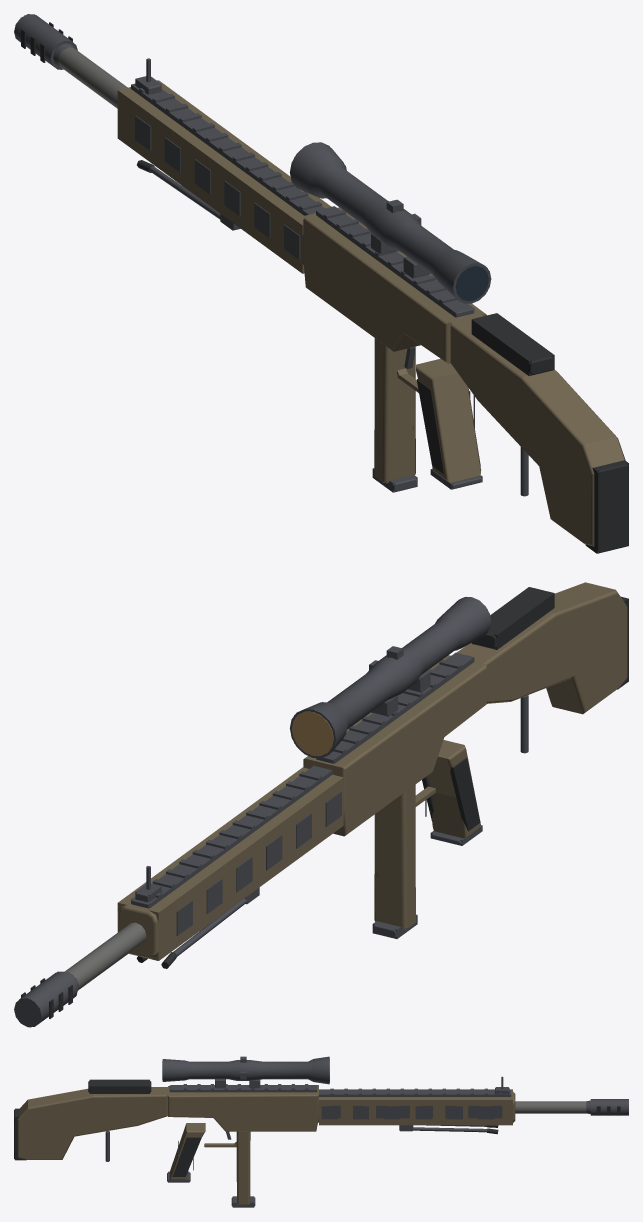
The model's file is n_stride.glb.
3 views of the same model, one above another, from view 1: azimuth 30°, elevation 25°; view 2: azimuth 150°, elevation 25°; view 3: azimuth 270°, elevation 25° (orthographic). The views are drawn at different scales.
Visible parts, largest first — view 1: L0, L1; view 2: L0, L1; view 3: L0, L1.
Boxes of the visible parts, bbox=[...] form: L0: bbox=[14, 14, 628, 552]; L1: bbox=[15, 15, 628, 553]; L0: bbox=[14, 582, 628, 1027]; L1: bbox=[14, 587, 628, 1027]; L0: bbox=[14, 1056, 628, 1206]; L1: bbox=[15, 1056, 628, 1207].
Size of the model in its own units: 0.052 by 0.3 by 1.14.
